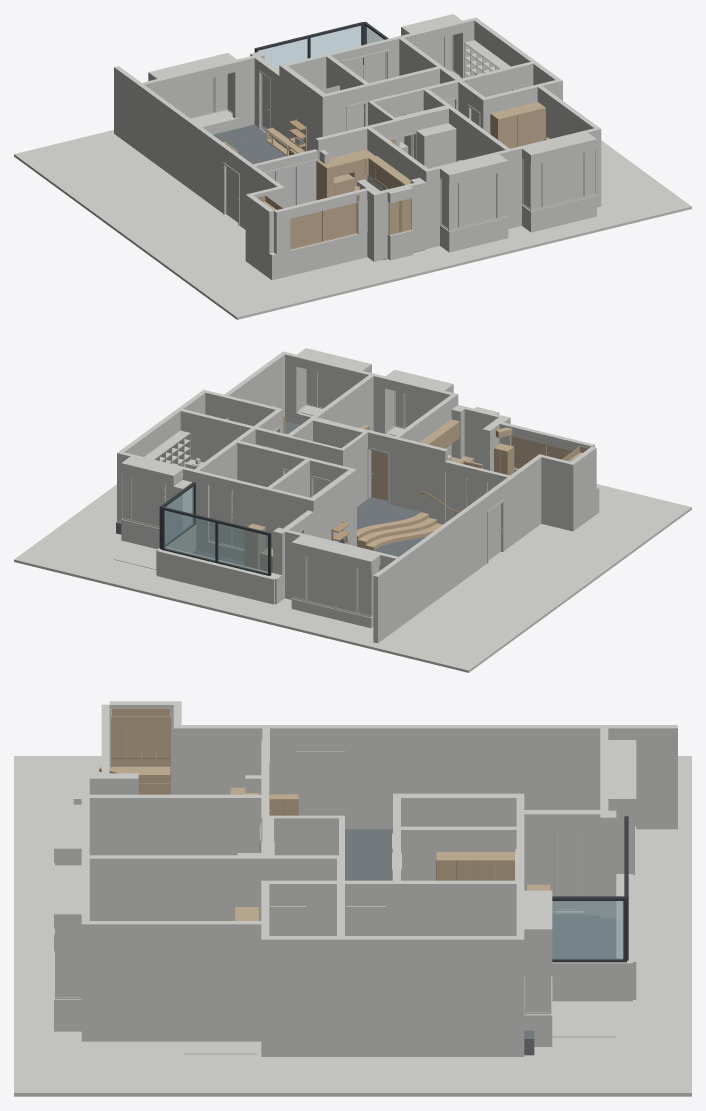
File: interaction_proxy.glb
3 views of the same model, one above another, from view 1: azimuth 30°, elevation 25°; view 2: azimuth 150°, elevation 25°; view 3: azimuth 270°, elevation 25° (orthographic). The views are drawn at different scales.
Parts seen in each view (by area): view 1: SITE_GROUND.001, VIEW_WALL_W_wall_md_0006.001, VIEW_WALL_W_wall_md_0042.001, VIEW_WALL_LIVING_FIX_GUEST_BATH_FULL_WALL.001, VIEW_WALL_W_wall_md_0035.001, V4_W-MB-S_FRONT_GLASS_1.001, VIEW_WALL_W_wall_md_0034.001, V4_W-SMB-S_FRONT_GLASS_1.001, VIEW_WALL_W_wall_md_0007.001, VIEW_WALL_W_wall_md_0021.001, VIEW_WALL_W_wall_md_0030.001, FLOOR_LOWER.001 (+45 smaller); view 2: SITE_GROUND.001, VIEW_WALL_W_wall_md_0006.001, VIEW_WALL_W_wall_md_0062.001, VIEW_WALL_W_wall_md_0044.001, VIEW_WALL_W_wall_md_0005.001, VIEW_WALL_W_wall_md_0055.001, VIEW_WALL_W_wall_md_0043.001, LIVING_FIX_BAY_FRONT_GLASS_1.001, VIEW_WALL_LIVING_FIX_GUEST_BATH_FULL_WALL.001, VIEW_WALL_W_wall_md_0049.001, NORTH_BALCONY_GLASS_NORTH_B.001, VIEW_WALL_W_wall_md_0007.001 (+55 smaller); view 3: SITE_GROUND.001, VIEW_WALL_W_wall_md_0030.001, VIEW_WALL_W_wall_md_0033.001, VIEW_WALL_W_wall_md_0006.001, VIEW_WALL_W_wall_md_0021.001, VIEW_WALL_W_wall_md_0015.001, VIEW_WALL_W_wall_md_0032.001, VIEW_WALL_W_wall_md_0005.001, VIEW_WALL_W_wall_md_0025.001, FLOOR_LOWER.001, VIEW_WALL_W_wall_md_0007.001, NORTH_BALCONY_GLASS_EAST.001 (+38 smaller).
Part boxes in pixels (bbox=[...]): SITE_GROUND.001: bbox=[14, 128, 691, 319]; VIEW_WALL_W_wall_md_0006.001: bbox=[139, 85, 227, 212]; VIEW_WALL_W_wall_md_0042.001: bbox=[276, 232, 367, 278]; VIEW_WALL_LIVING_FIX_GUEST_BATH_FULL_WALL.001: bbox=[282, 66, 325, 151]; VIEW_WALL_W_wall_md_0035.001: bbox=[533, 139, 594, 231]; V4_W-MB-S_FRONT_GLASS_1.001: bbox=[543, 152, 583, 206]; VIEW_WALL_W_wall_md_0034.001: bbox=[451, 161, 505, 251]; V4_W-SMB-S_FRONT_GLASS_1.001: bbox=[460, 174, 496, 226]; VIEW_WALL_W_wall_md_0007.001: bbox=[114, 66, 141, 150]; VIEW_WALL_W_wall_md_0021.001: bbox=[449, 107, 509, 161]; VIEW_WALL_W_wall_md_0030.001: bbox=[537, 86, 598, 138]; FLOOR_LOWER.001: bbox=[213, 124, 425, 259]; SITE_GROUND.001: bbox=[14, 484, 691, 672]; VIEW_WALL_W_wall_md_0006.001: bbox=[399, 495, 487, 624]; VIEW_WALL_W_wall_md_0062.001: bbox=[157, 547, 277, 604]; VIEW_WALL_W_wall_md_0044.001: bbox=[396, 437, 441, 523]; VIEW_WALL_W_wall_md_0005.001: bbox=[499, 456, 541, 550]; VIEW_WALL_W_wall_md_0055.001: bbox=[196, 470, 266, 561]; VIEW_WALL_W_wall_md_0043.001: bbox=[541, 455, 575, 531]; LIVING_FIX_BAY_FRONT_GLASS_1.001: bbox=[307, 556, 356, 612]; VIEW_WALL_LIVING_FIX_GUEST_BATH_FULL_WALL.001: bbox=[311, 470, 354, 545]; VIEW_WALL_W_wall_md_0049.001: bbox=[180, 409, 253, 462]; NORTH_BALCONY_GLASS_NORTH_B.001: bbox=[164, 510, 215, 560]; VIEW_WALL_W_wall_md_0007.001: bbox=[373, 559, 400, 643]; SITE_GROUND.001: bbox=[14, 756, 691, 1096]; VIEW_WALL_W_wall_md_0030.001: bbox=[89, 921, 261, 1041]; VIEW_WALL_W_wall_md_0033.001: bbox=[345, 936, 516, 1056]; VIEW_WALL_W_wall_md_0006.001: bbox=[345, 725, 600, 829]; VIEW_WALL_W_wall_md_0021.001: bbox=[89, 855, 261, 920]; VIEW_WALL_W_wall_md_0015.001: bbox=[89, 794, 261, 855]; VIEW_WALL_W_wall_md_0032.001: bbox=[261, 936, 336, 1056]; VIEW_WALL_W_wall_md_0005.001: bbox=[181, 725, 296, 794]; VIEW_WALL_W_wall_md_0025.001: bbox=[401, 880, 516, 935]; FLOOR_LOWER.001: bbox=[345, 829, 616, 958]; VIEW_WALL_W_wall_md_0007.001: bbox=[608, 725, 677, 829]; NORTH_BALCONY_GLASS_EAST.001: bbox=[552, 901, 623, 959].
Bounding box in the file's own units: 20 × 3.37 × 17.
